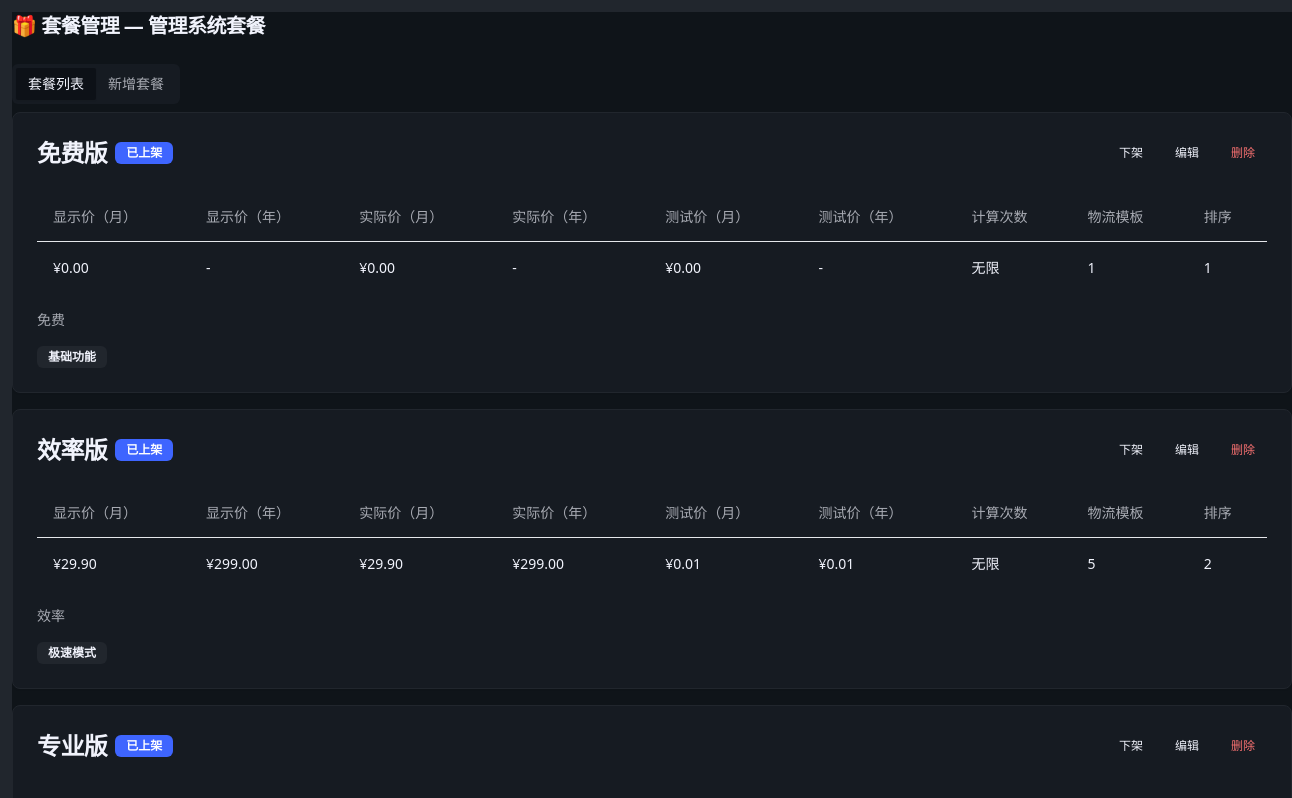
PlanManagementPage › displays prices with 2 decimal places in edit form
The width and height of the screenshot is (1292, 798).
Check: the heading "效率版" is shown, box [37,438,107,462]
// Click edit on 效率版 (second plan)
Click the button "编辑" in the row of "效率版": (1187, 450) [1163,434,1211,466]
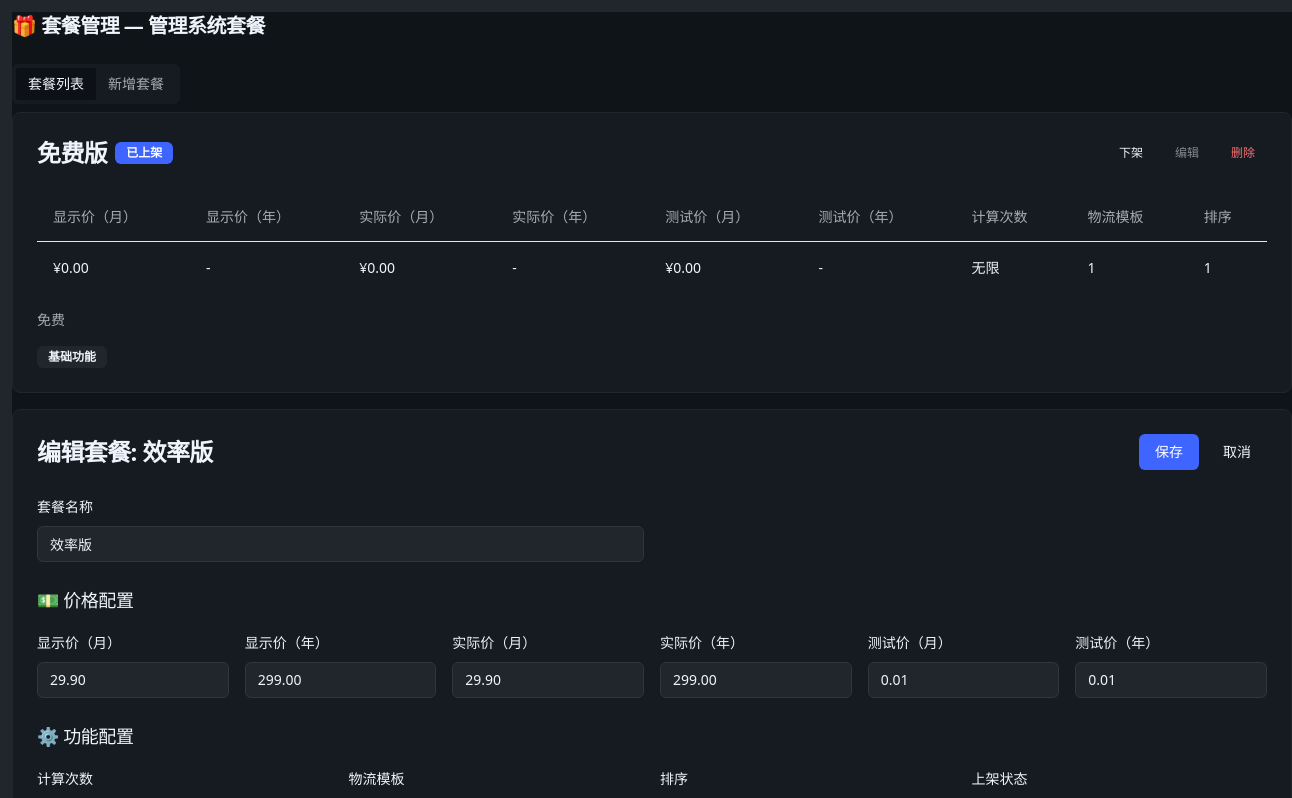
Check: the 1st number field showing "29.90" is shown, box [37,662,229,698]
